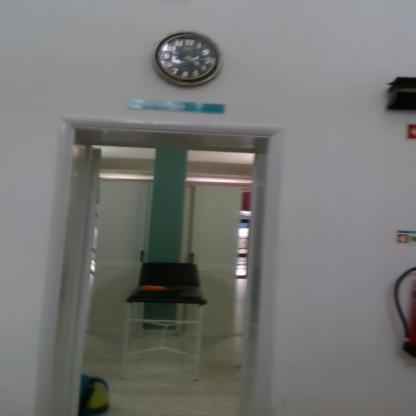open: (61, 117, 281, 416)
